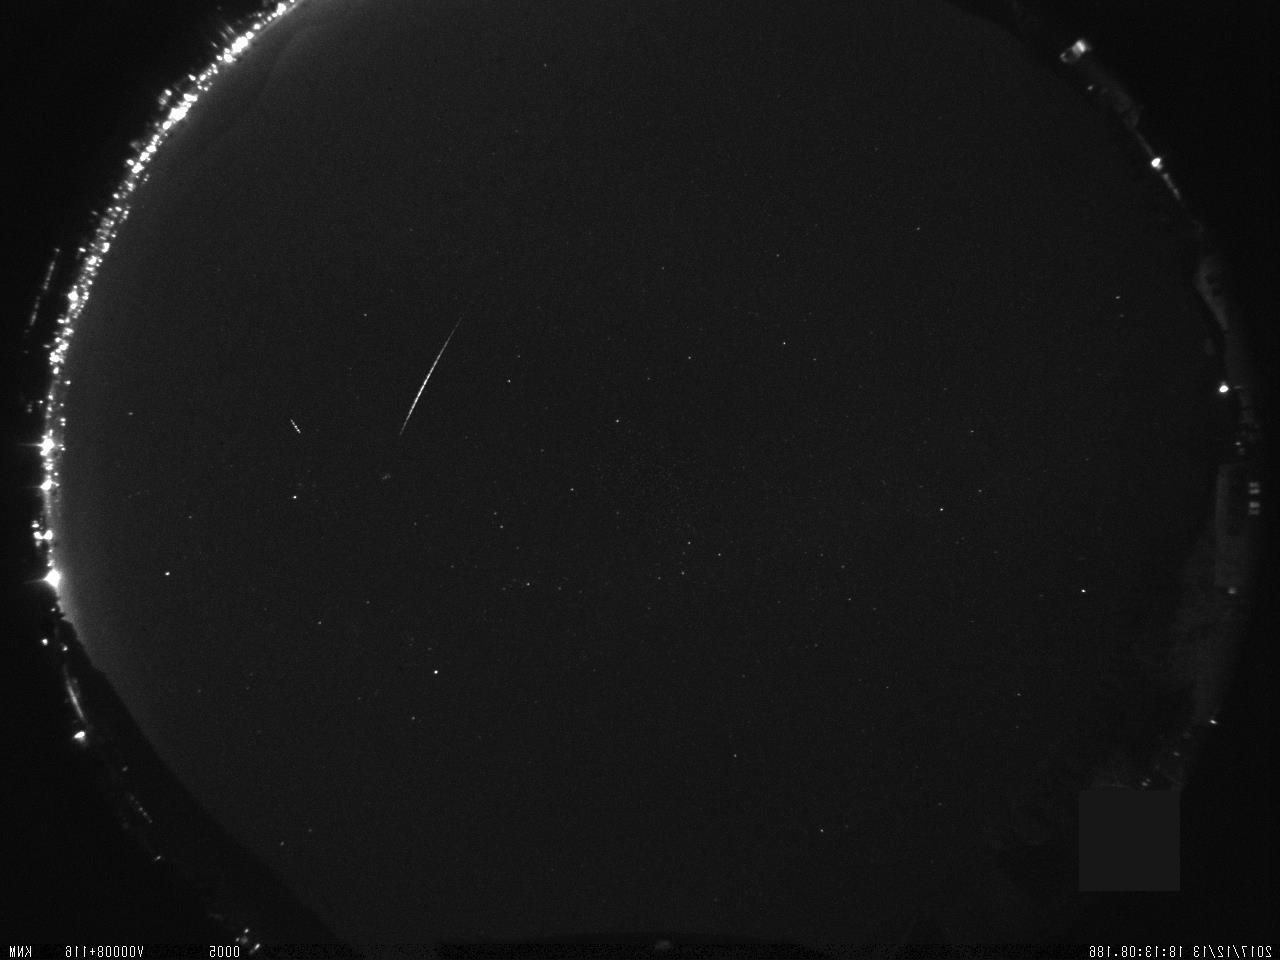meteor: (392, 290, 489, 447), (278, 406, 312, 441)
